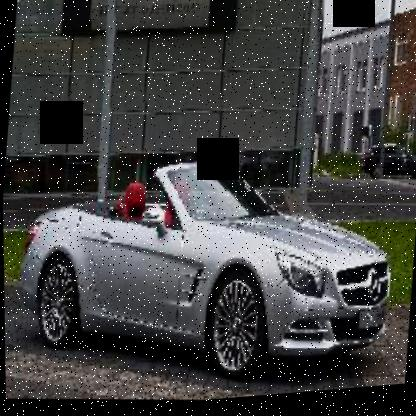not_emergency: (13, 102, 415, 415)
